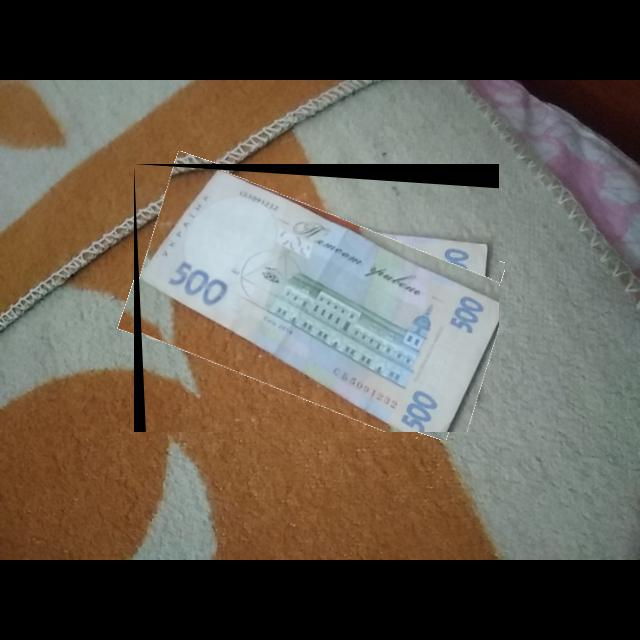500uah: (138, 169, 500, 433)
